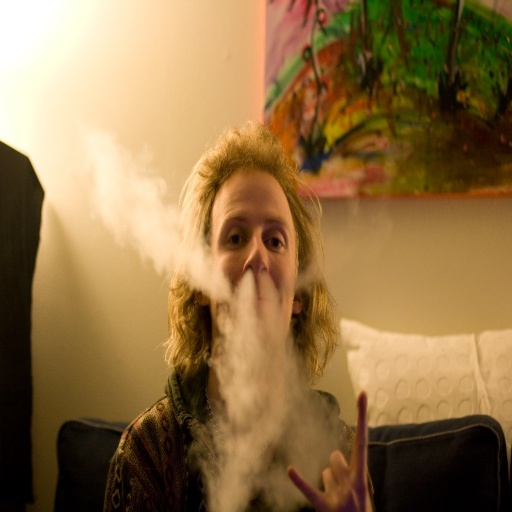hand: (311, 432, 376, 504)
